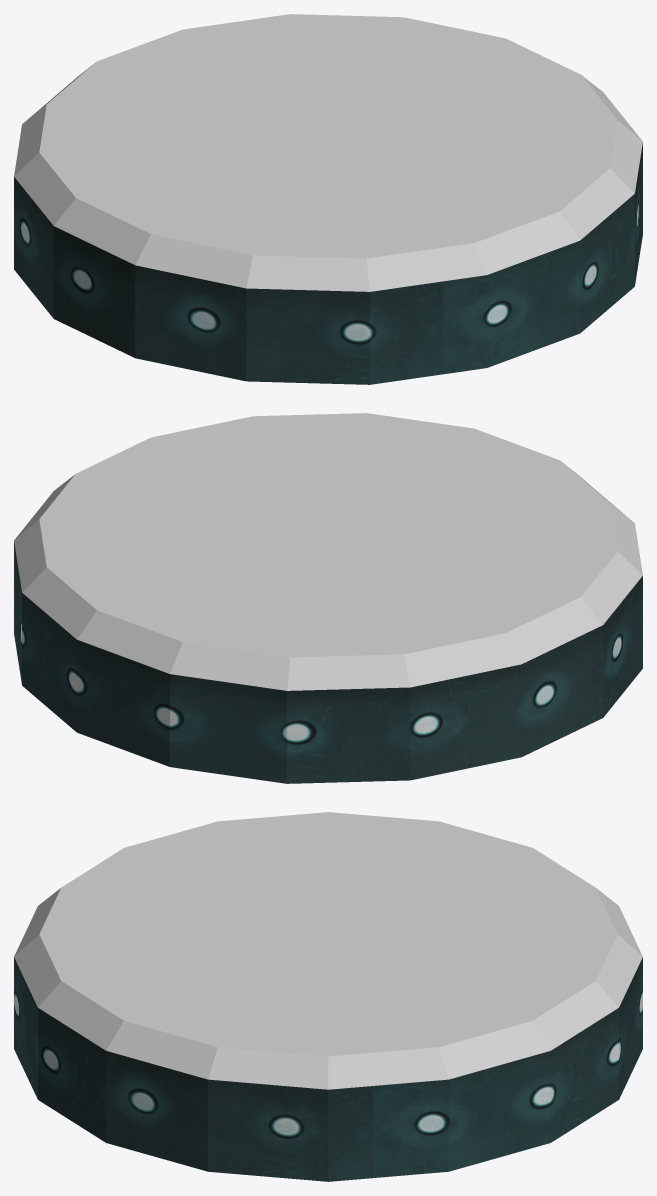
The model's file is rumba.fbx.
3 renders of one model, top to bottom at view 1: azimuth 30°, elevation 25°; view 2: azimuth 150°, elevation 25°; view 3: azimuth 270°, elevation 25°, orthographic.
Visible parts, largest first — view 1: Cylinder, Cylinder.001; view 2: Cylinder, Cylinder.001; view 3: Cylinder, Cylinder.001.
Boxes of the visible parts, bbox=[...] form: Cylinder: bbox=[14, 14, 642, 291]; Cylinder.001: bbox=[14, 143, 642, 384]; Cylinder: bbox=[14, 413, 642, 690]; Cylinder.001: bbox=[14, 542, 642, 783]; Cylinder: bbox=[14, 812, 642, 1089]; Cylinder.001: bbox=[14, 957, 642, 1181].
Size of the model in its own units: 550 by 111 by 550.
